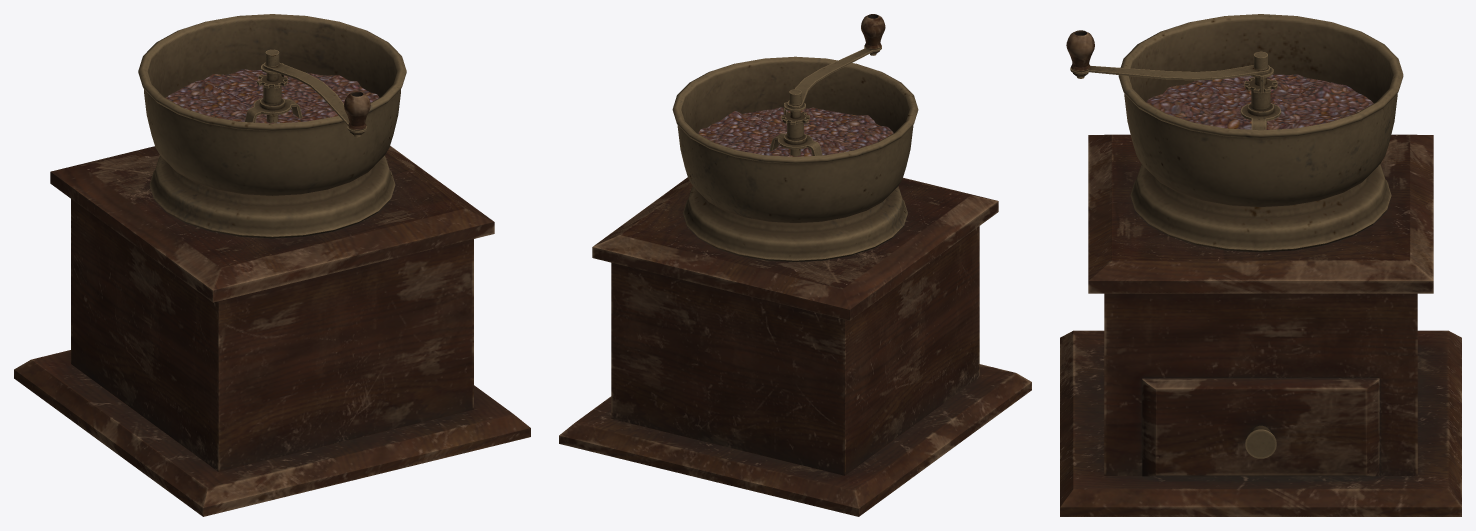
The picture shows the model from 3 angles, left to right: view 1: azimuth 30°, elevation 25°; view 2: azimuth 150°, elevation 25°; view 3: azimuth 270°, elevation 25°; orthographic projection. The views are drawn at different scales.
Parts seen in each view (by area): view 1: base, handle; view 2: base, handle; view 3: base, handle.
Part boxes in pixels (x1,y1,x2,y2): base: (14,14,530,516); handle: (244,49,370,137); base: (559,56,1031,516); handle: (769,14,885,156); base: (1060,14,1461,516); handle: (1066,30,1280,130).
Bounding box in the file's own units: 15.11 × 16.56 × 15.11.
1 material, 1 textured.
